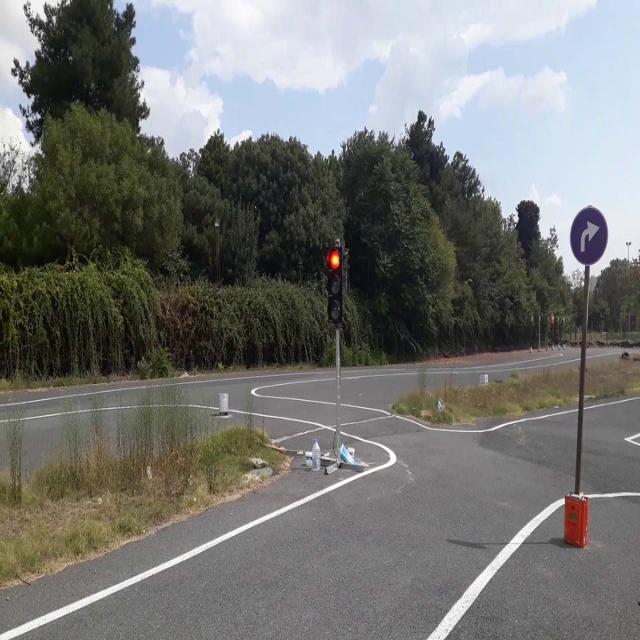kirmizi: (328, 248, 342, 324)
sag: (570, 210, 608, 265)
